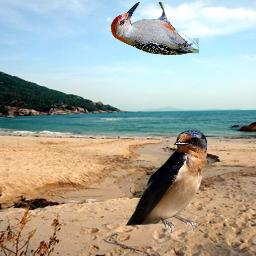Swallow: (125, 129, 207, 236)
Woodpecker: (111, 2, 199, 55)
